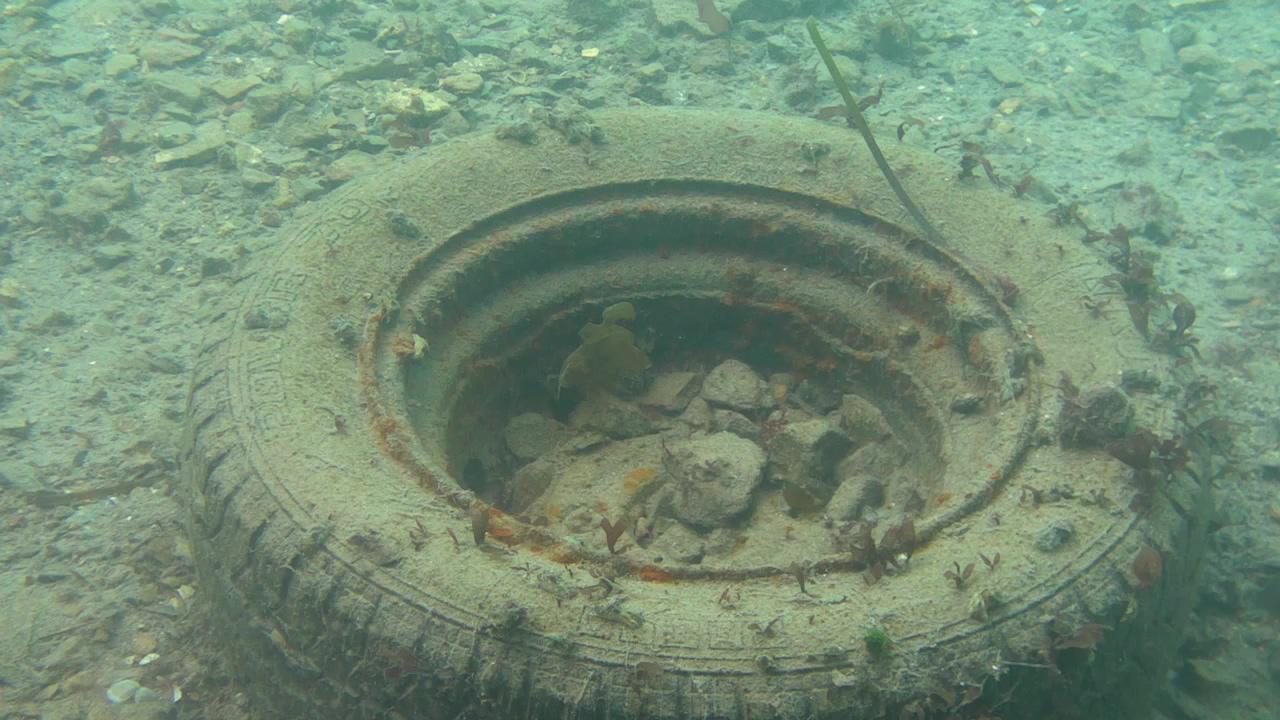tire: (185, 103, 1216, 720)
